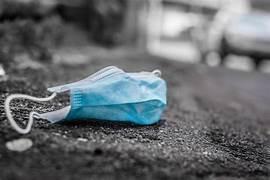Mask: (5, 66, 165, 132)
